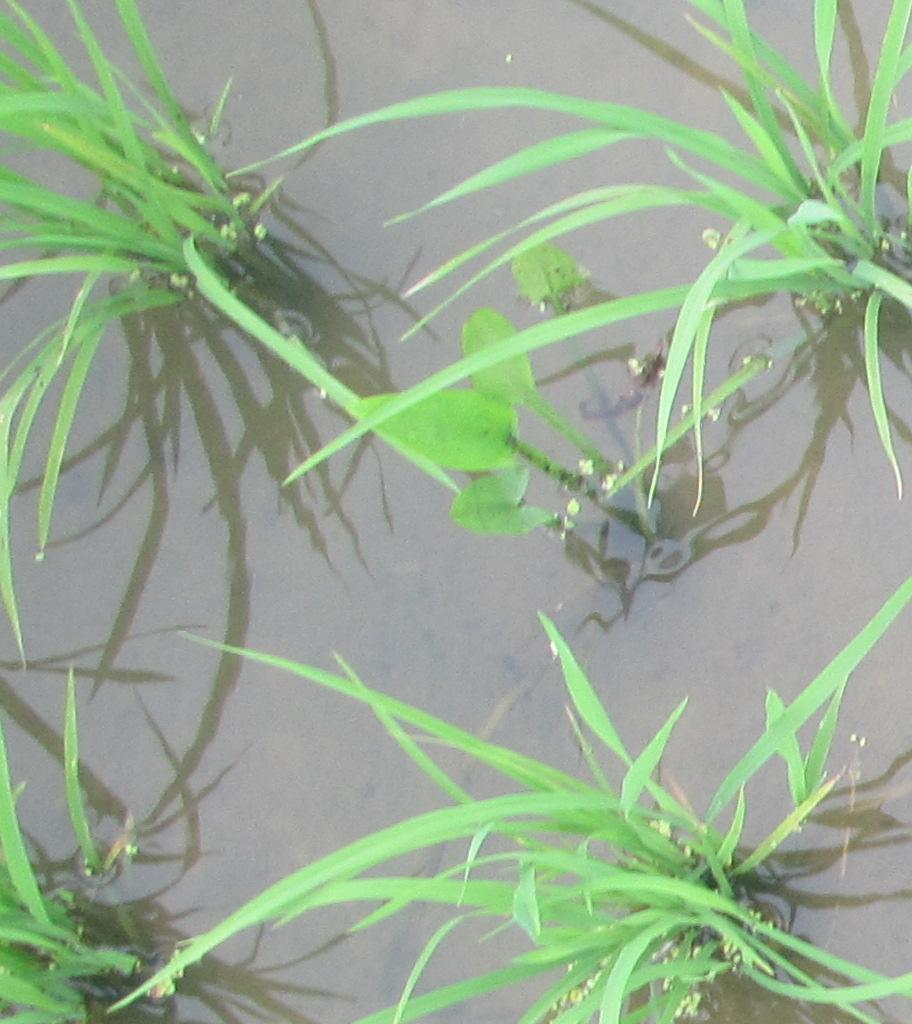Weed: (353, 388, 532, 478)
